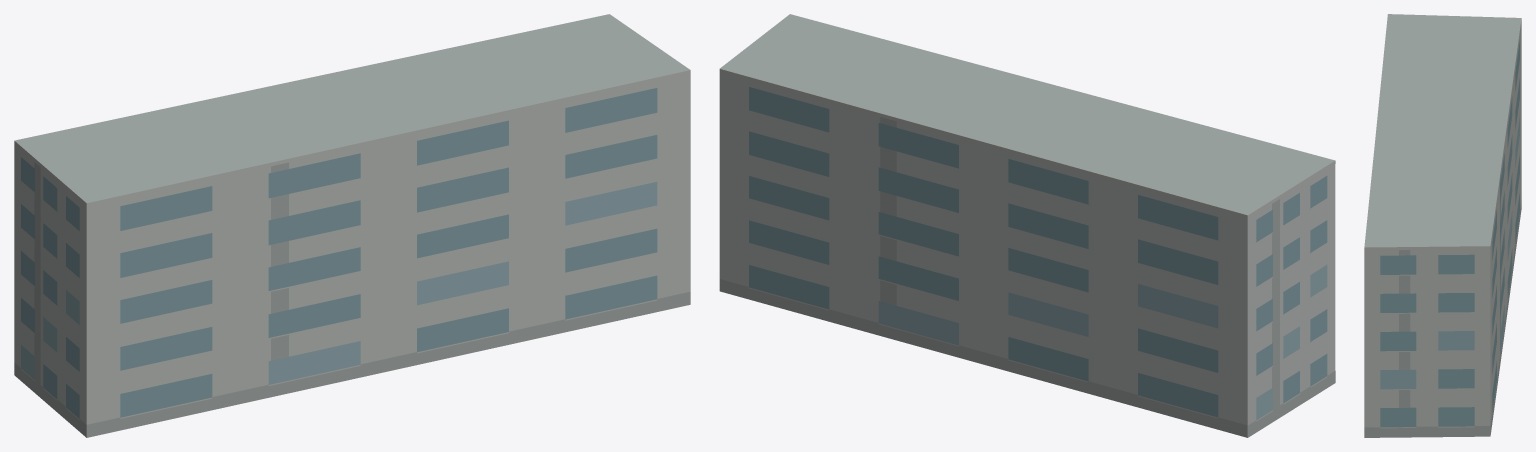
File: residential-6326bdf5-055e-4533-bcd3-6a3df5f0bd0e.glb
3 views of the same model, side by side, from view 1: azimuth 30°, elevation 25°; view 2: azimuth 150°, elevation 25°; view 3: azimuth 270°, elevation 25° (orthographic). The views are drawn at different scales.
Visible parts, largest first — view 1: residential-6326bdf5-055e-4533-bcd3-6a3df5f0bd0e.tmp; view 2: residential-6326bdf5-055e-4533-bcd3-6a3df5f0bd0e.tmp; view 3: residential-6326bdf5-055e-4533-bcd3-6a3df5f0bd0e.tmp.
Part boxes in pixels (x1,y1,x2,y2): residential-6326bdf5-055e-4533-bcd3-6a3df5f0bd0e.tmp: [14, 14, 690, 437]; residential-6326bdf5-055e-4533-bcd3-6a3df5f0bd0e.tmp: [719, 14, 1335, 437]; residential-6326bdf5-055e-4533-bcd3-6a3df5f0bd0e.tmp: [1364, 14, 1521, 437].
Size of the model in its own units: 40.1 by 15.25 by 11.42.
